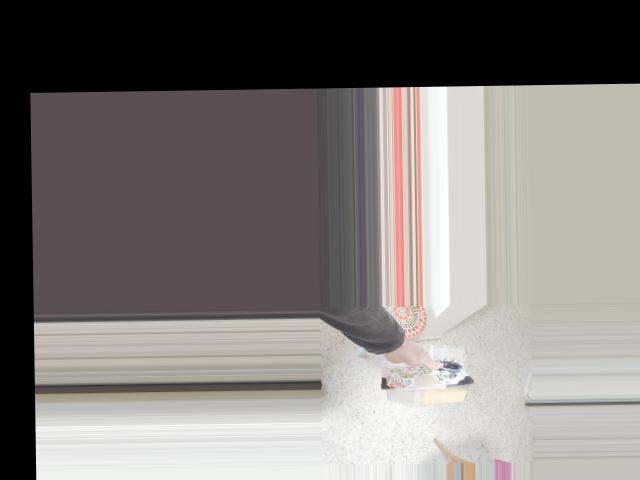cheese: (369, 337, 477, 430)
